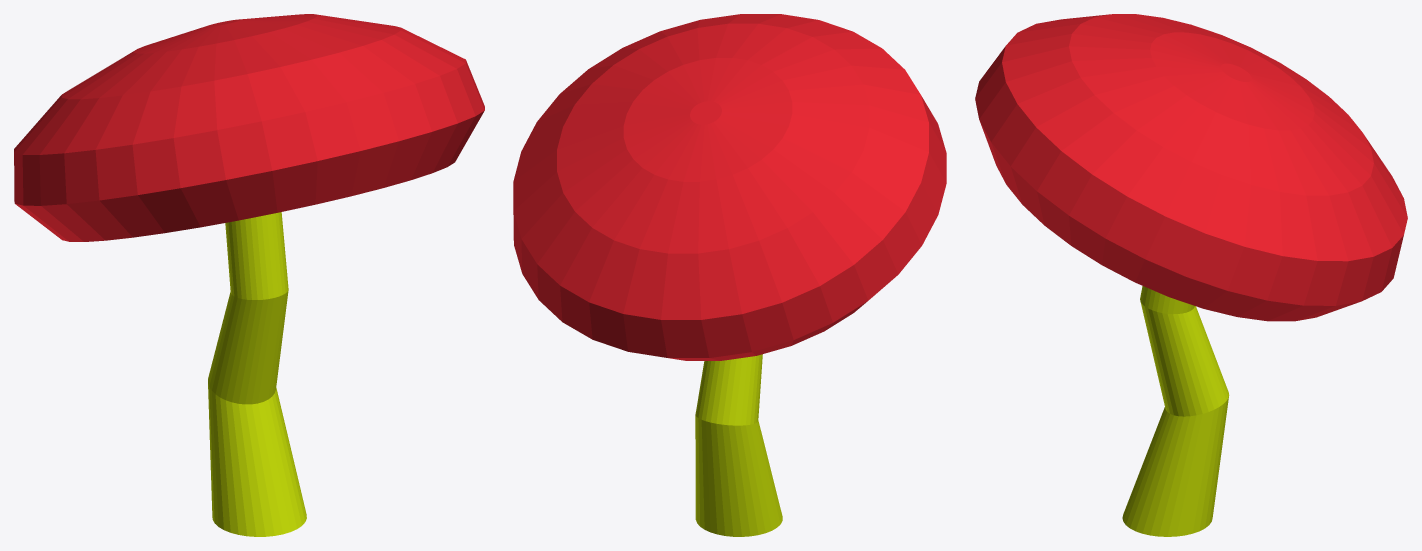
Rendered from Grzybek5.fbx.
3 views of the same model, side by side, from view 1: azimuth 30°, elevation 25°; view 2: azimuth 150°, elevation 25°; view 3: azimuth 270°, elevation 25° (orthographic). The views are drawn at different scales.
Parts seen in each view (by area): view 1: Circle.001; view 2: Circle.001; view 3: Circle.001.
Part boxes in pixels (x1,y1,x2,y2): Circle.001: [14, 14, 484, 536]; Circle.001: [513, 14, 946, 536]; Circle.001: [975, 14, 1407, 536].
Size of the model in its own units: 715 by 810 by 674.
